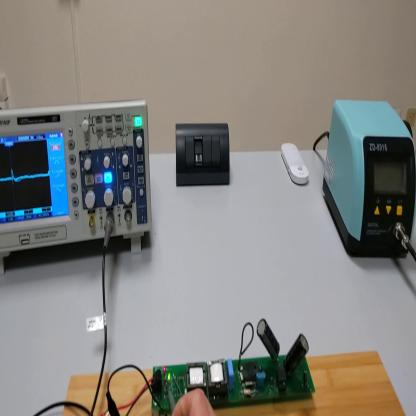hand: (176, 388, 217, 416)
high voltage board: (117, 320, 316, 416)
oscilloscope: (2, 100, 155, 275)
oscilloscope probe tip: (170, 390, 178, 416)
welder station: (324, 97, 415, 260)
working area: (63, 351, 407, 416)
